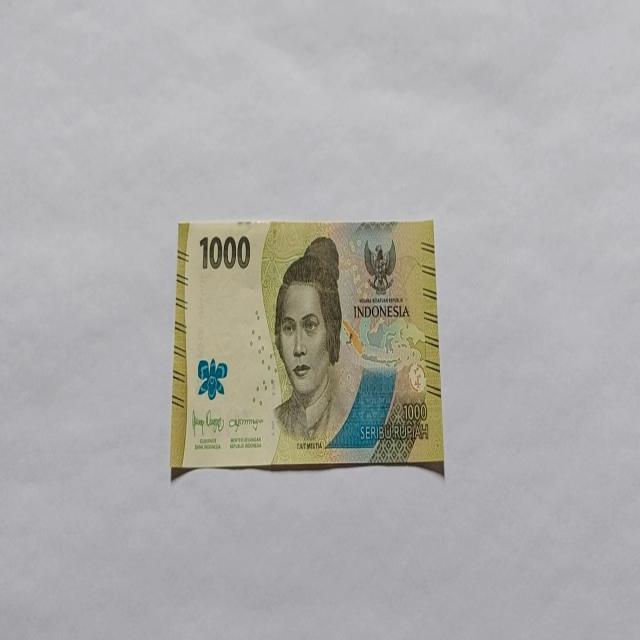seribu rupiah kertas: (170, 218, 444, 476)
